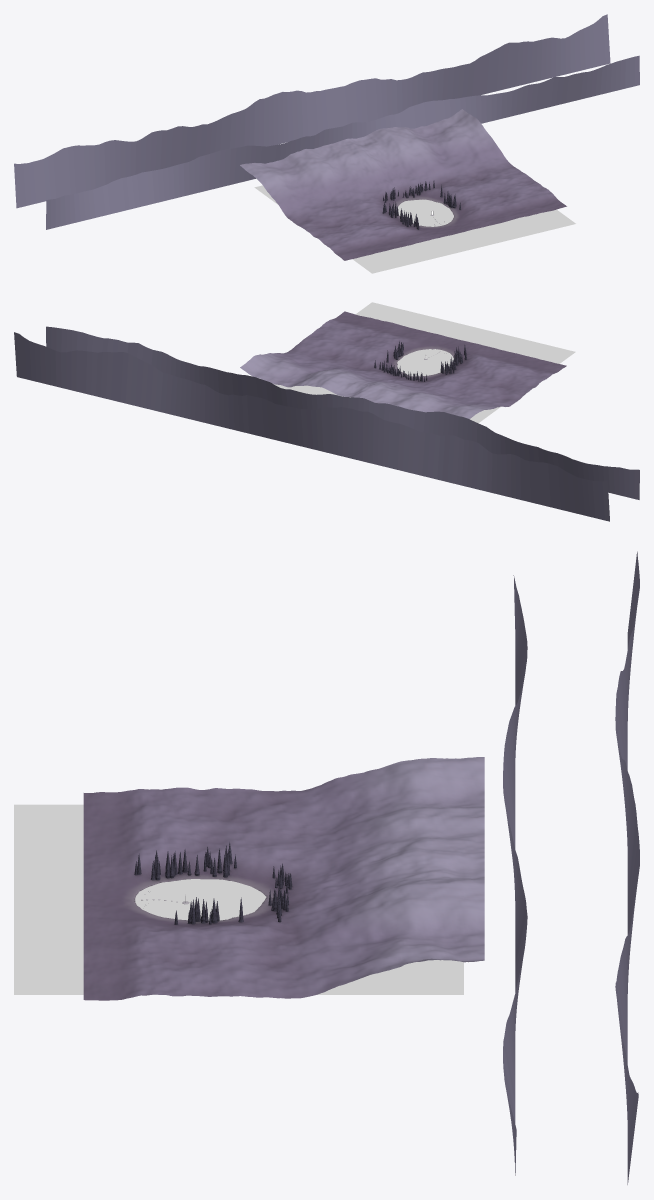
The model's file is threshold.glb.
The picture shows the model from 3 angles, top to bottom: view 1: azimuth 30°, elevation 25°; view 2: azimuth 150°, elevation 25°; view 3: azimuth 270°, elevation 25°; orthographic projection. The views are drawn at different scales.
Visible parts, largest first — view 1: Ridges, Terrain, Water, Forest; view 2: Ridges, Terrain, Water, Forest; view 3: Terrain, Water, Ridges, Forest.
Boxes of the visible parts, <box> form: Ridges: <box>14,14,639,229</box>; Terrain: <box>240,109,566,260</box>; Water: <box>254,185,575,273</box>; Forest: <box>382,180,460,229</box>; Ridges: <box>14,326,639,521</box>; Terrain: <box>240,311,566,418</box>; Water: <box>273,302,575,423</box>; Forest: <box>374,341,466,381</box>; Terrain: <box>83,757,484,1000</box>; Water: <box>14,804,463,994</box>; Ridges: <box>503,551,639,1184</box>; Forest: <box>134,842,292,924</box>.
Bounding box in the file's own units: 640 × 52.11 × 306.
